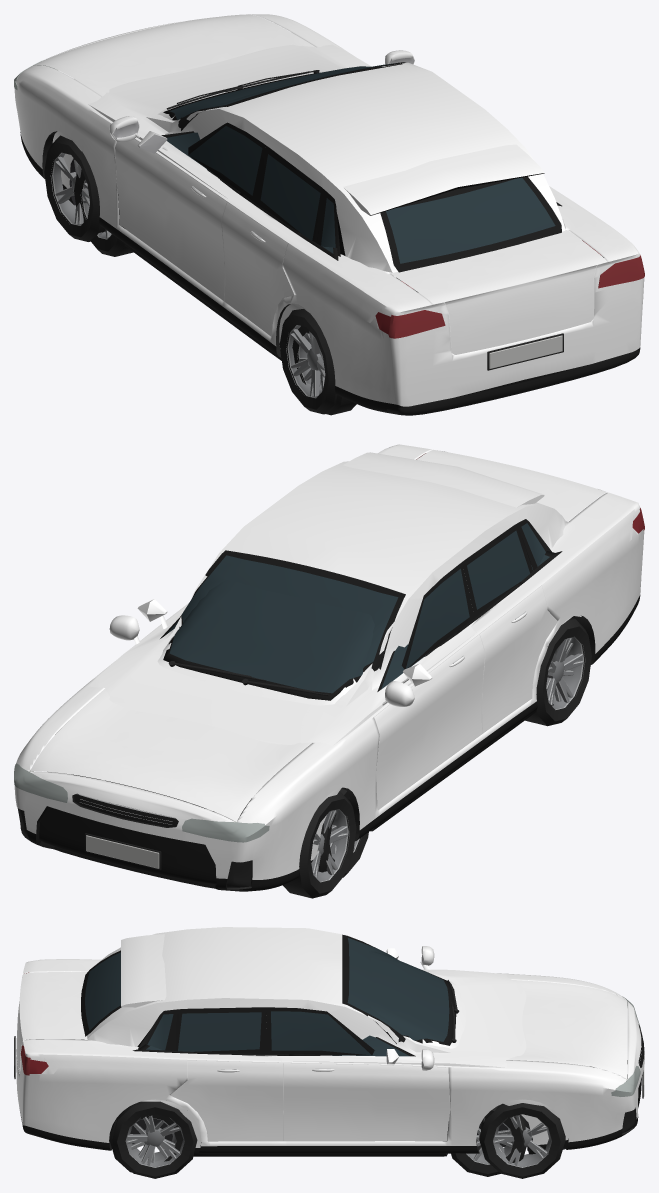
Rendered from parking-cars.glb.
3 renders of one model, top to bottom at view 1: azimuth 30°, elevation 25°; view 2: azimuth 150°, elevation 25°; view 3: azimuth 270°, elevation 25°, orthographic. The views are drawn at different scales.
Parts seen in each view (by area): view 1: family-sedan-body, hatchback-body, hatchback-details, family-sedan-details; view 2: family-sedan-body, hatchback-body, family-sedan-details, hatchback-details; view 3: family-sedan-body, hatchback-body, family-sedan-details, hatchback-details.
Boxes of the visible parts, <box> form: family-sedan-body: <box>14,14,644,406</box>; hatchback-body: <box>52,33,607,354</box>; hatchback-details: <box>62,62,603,415</box>; family-sedan-details: <box>14,57,644,415</box>; family-sedan-body: <box>14,444,644,879</box>; hatchback-body: <box>47,452,581,860</box>; family-sedan-details: <box>14,453,644,898</box>; hatchback-details: <box>72,519,573,877</box>; family-sedan-body: <box>16,946,644,1146</box>; hatchback-body: <box>70,927,588,1147</box>; family-sedan-details: <box>14,951,644,1178</box>; hatchback-details: <box>81,934,593,1176</box>.
Size of the model in its own units: 2.1 by 1.46 by 4.86.
